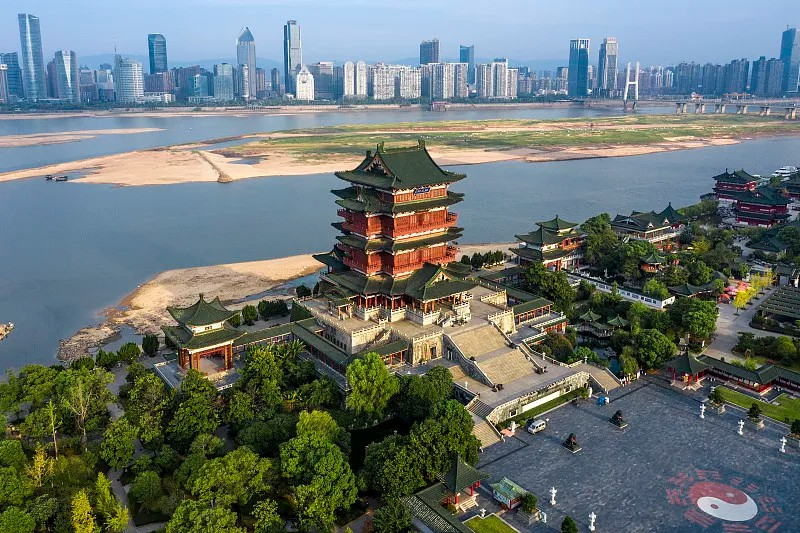Teng: (312, 140, 479, 316)
